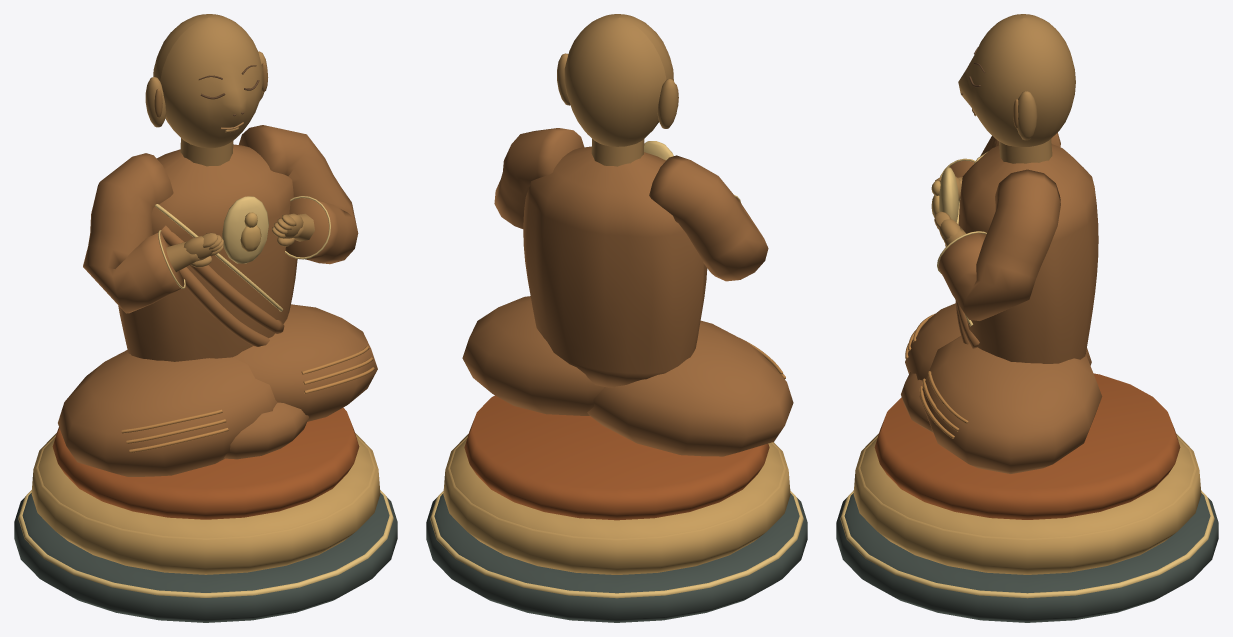
The model's file is arhat_06_lod1.glb.
The picture shows the model from 3 angles, left to right: view 1: azimuth 30°, elevation 25°; view 2: azimuth 150°, elevation 25°; view 3: azimuth 270°, elevation 25°; orthographic projection.
Visible parts, largest first — view 1: arhat_06_ArhatDrapery, arhat_06_AntiqueGold, arhat_06_CarvedPlinth, arhat_06_SaffronDrapery, arhat_06_WarmBronze, arhat_06_RaisedGoldBorders, arhat_06_DraperyFoldHighlights; view 2: arhat_06_ArhatDrapery, arhat_06_SaffronDrapery, arhat_06_AntiqueGold, arhat_06_CarvedPlinth, arhat_06_WarmBronze, arhat_06_RaisedGoldBorders; view 3: arhat_06_ArhatDrapery, arhat_06_SaffronDrapery, arhat_06_AntiqueGold, arhat_06_CarvedPlinth, arhat_06_WarmBronze, arhat_06_RaisedGoldBorders, arhat_06_DraperyFoldHighlights.
Boxes of the visible parts, left/top/right/bottom form: arhat_06_ArhatDrapery: left=58, top=125, right=377, bottom=476; arhat_06_AntiqueGold: left=31, top=212, right=380, bottom=574; arhat_06_CarvedPlinth: left=14, top=493, right=397, bottom=622; arhat_06_SaffronDrapery: left=52, top=407, right=359, bottom=519; arhat_06_WarmBronze: left=145, top=14, right=314, bottom=271; arhat_06_RaisedGoldBorders: left=18, top=196, right=393, bottom=597; arhat_06_DraperyFoldHighlights: left=121, top=346, right=374, bottom=452; arhat_06_ArhatDrapery: left=462, top=128, right=793, bottom=456; arhat_06_SaffronDrapery: left=464, top=395, right=769, bottom=520; arhat_06_AntiqueGold: left=443, top=434, right=790, bottom=574; arhat_06_CarvedPlinth: left=426, top=493, right=807, bottom=622; arhat_06_WarmBronze: left=557, top=14, right=678, bottom=166; arhat_06_RaisedGoldBorders: left=430, top=141, right=803, bottom=598; arhat_06_ArhatDrapery: left=901, top=132, right=1102, bottom=473; arhat_06_SaffronDrapery: left=874, top=373, right=1180, bottom=519; arhat_06_AntiqueGold: left=853, top=180, right=1201, bottom=574; arhat_06_CarvedPlinth: left=836, top=493, right=1218, bottom=622; arhat_06_WarmBronze: left=934, top=14, right=1075, bottom=246; arhat_06_RaisedGoldBorders: left=840, top=151, right=1214, bottom=598; arhat_06_DraperyFoldHighlights: left=905, top=314, right=968, bottom=438.
Bounding box in the file's own units: 0.92 × 1.4 × 0.92.
